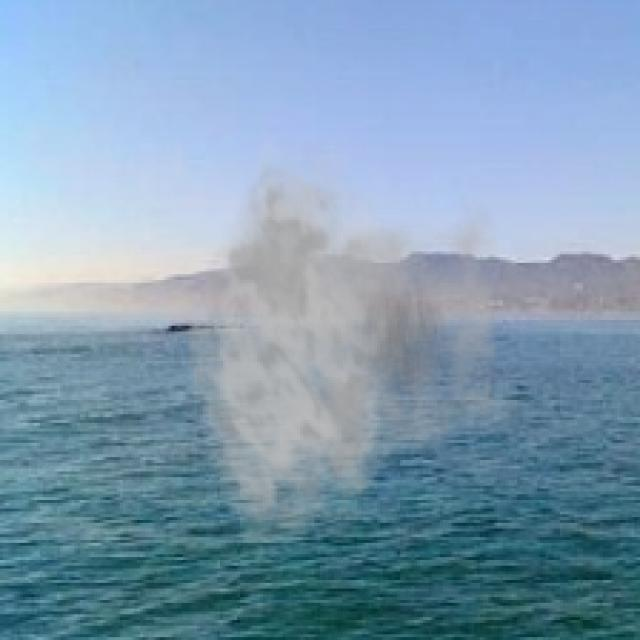smoke: (186, 129, 528, 554)
